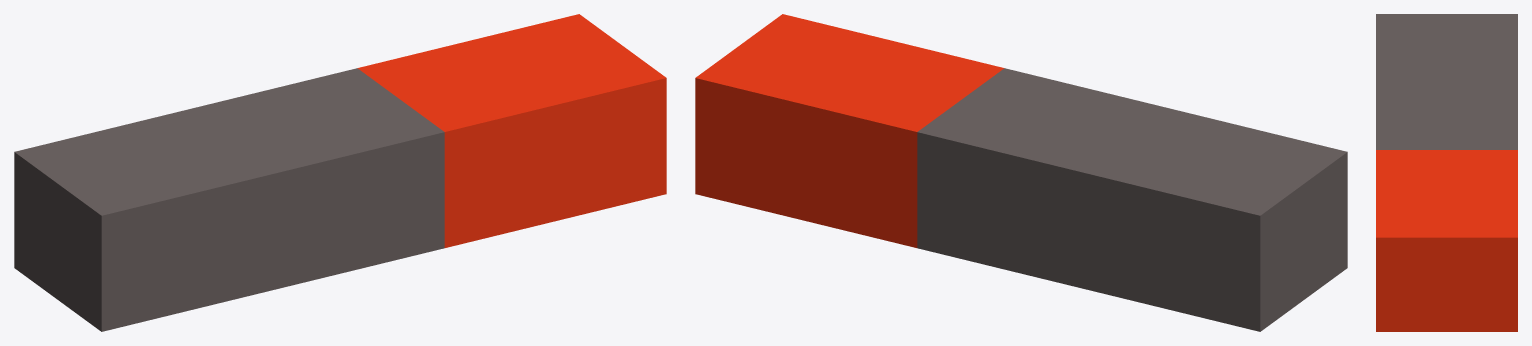
File: inv_lever.obj
The picture shows the model from 3 angles, left to right: view 1: azimuth 30°, elevation 25°; view 2: azimuth 150°, elevation 25°; view 3: azimuth 270°, elevation 25°; orthographic projection. The views are drawn at different scales.
Size of the model in its own units: 0.4375 by 0.0859 by 0.1172.
